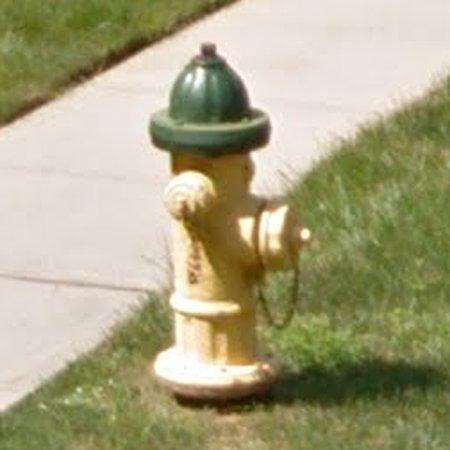a fire hydrant: (150, 43, 309, 400)
